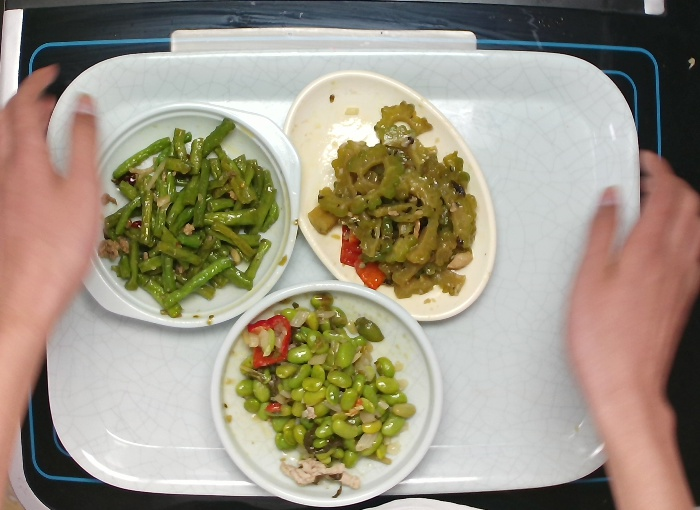JYsf-Shuang_Er_Pan: (74, 99, 304, 332)
JYsf-Tuo_Yuan_Wan: (276, 64, 502, 327)
JYsf-Xiao_Yuan_Pan: (207, 273, 449, 508)
